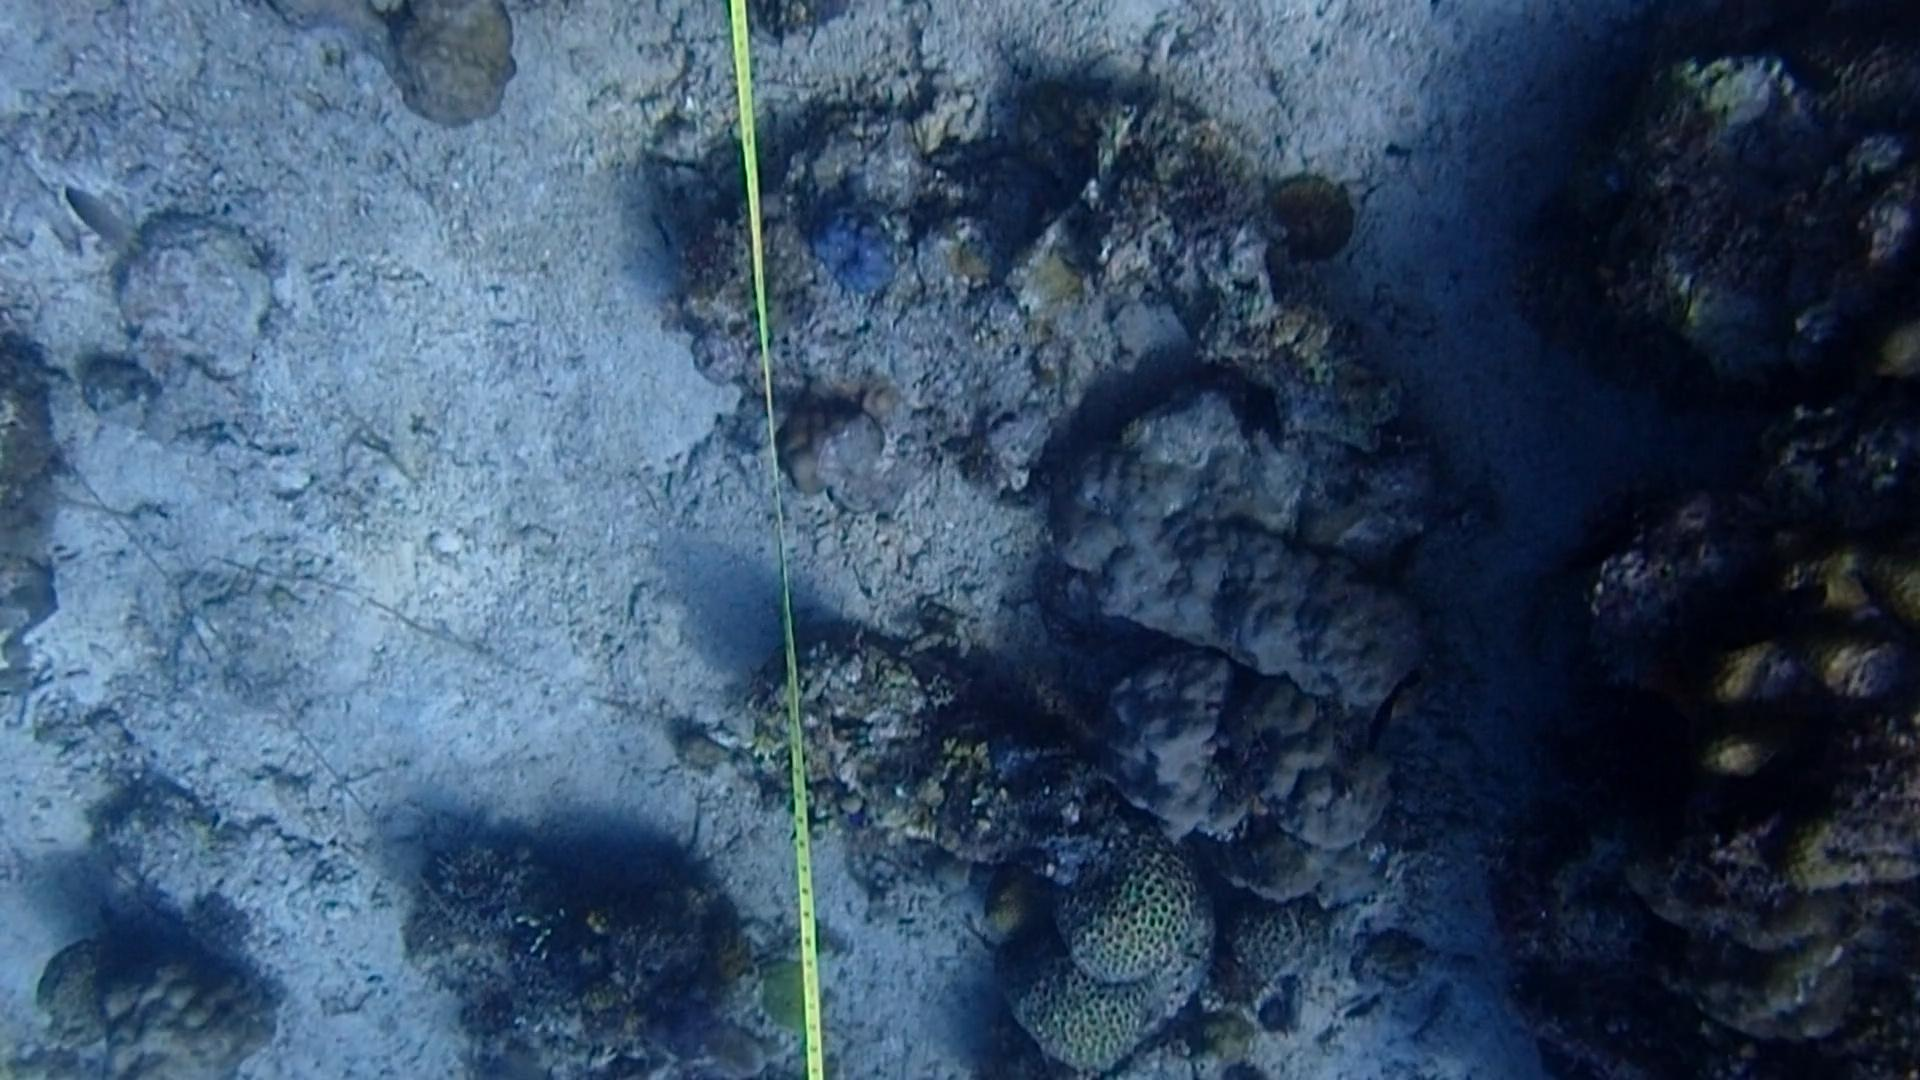Dark Fish: (1692, 567, 1828, 662), (1735, 736, 1859, 835), (1341, 626, 1429, 757), (1758, 18, 1837, 107)
Light Fish: (58, 173, 142, 266)
